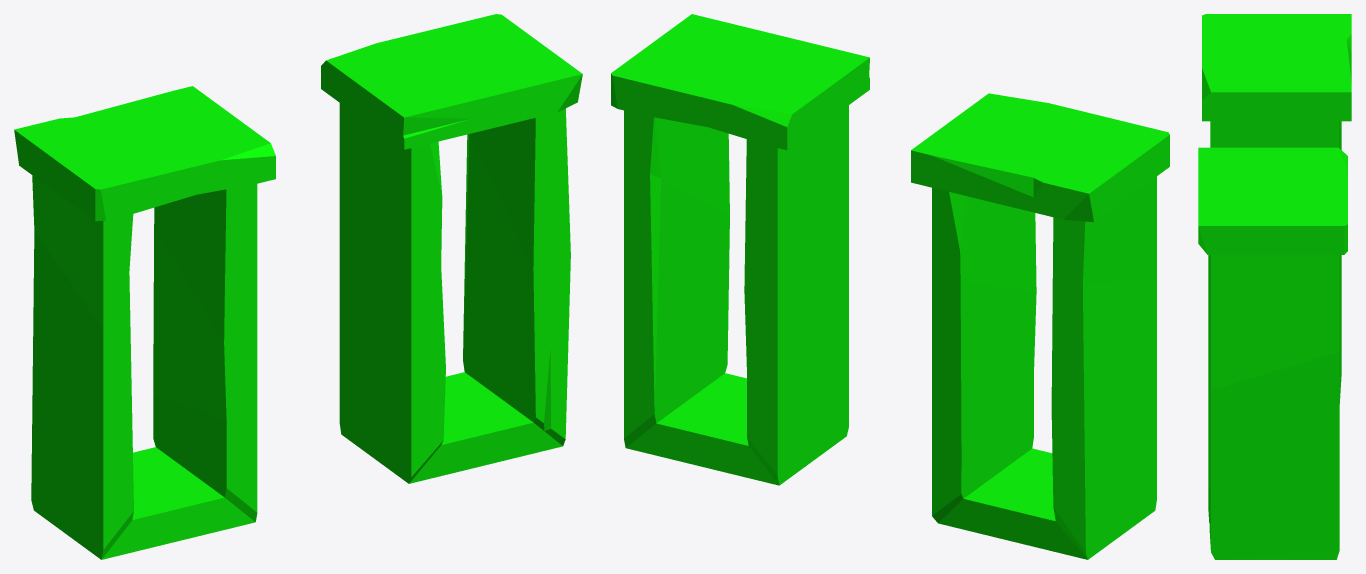
File: SM_Window_Tiny_Double_A_Fantasy.fbx
3 views of the same model, side by side, from view 1: azimuth 30°, elevation 25°; view 2: azimuth 150°, elevation 25°; view 3: azimuth 270°, elevation 25° (orthographic). The views are drawn at different scales.
Parts seen in each view (by area): view 1: window-tiny-double-a-fantasy; view 2: window-tiny-double-a-fantasy; view 3: window-tiny-double-a-fantasy.
Part boxes in pixels (left/top/right/bottom): window-tiny-double-a-fantasy: left=14, top=14, right=582, bottom=559; window-tiny-double-a-fantasy: left=611, top=14, right=1169, bottom=559; window-tiny-double-a-fantasy: left=1198, top=14, right=1351, bottom=559.
Bounding box in the file's own units: 0.9406 × 0.7 × 0.2872.
